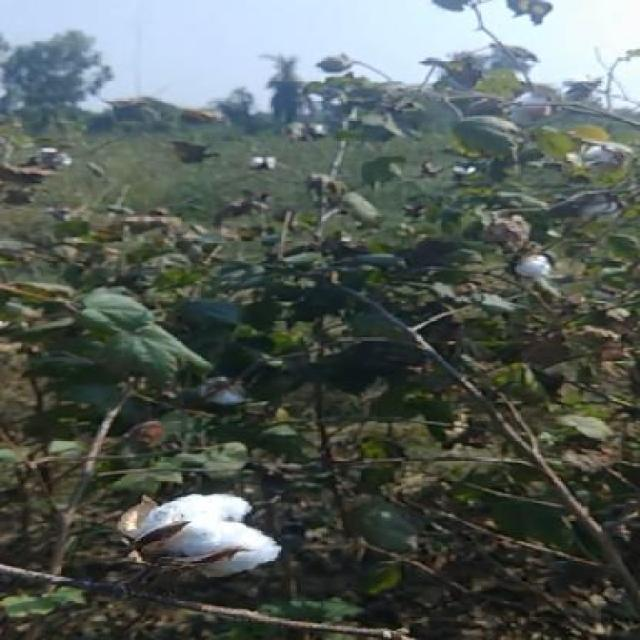cotton_ready: (63, 477, 328, 612)
